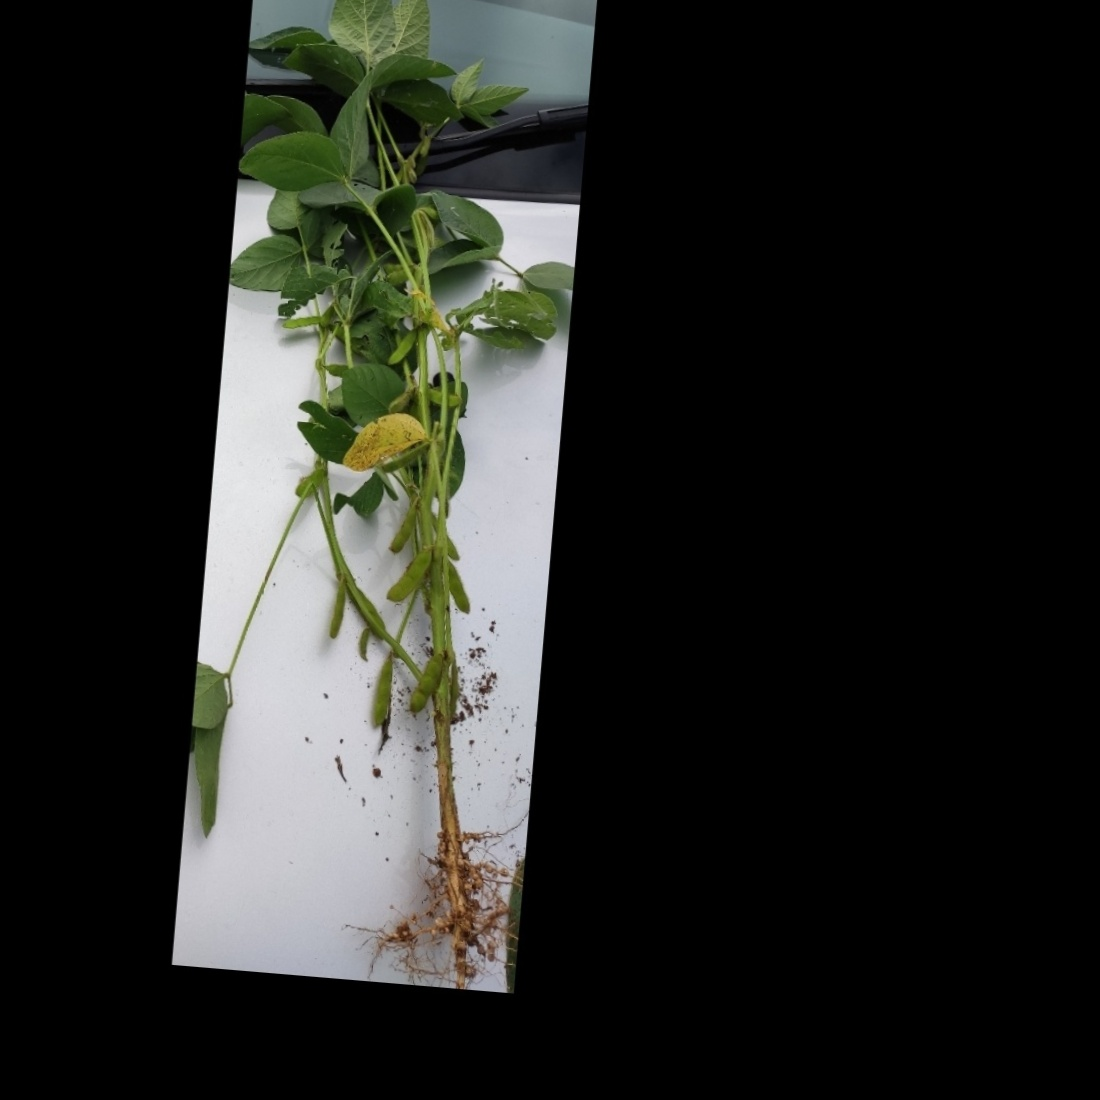pod: (382, 540, 435, 607), (365, 639, 400, 734), (405, 652, 444, 717), (445, 554, 479, 616), (387, 498, 421, 559), (323, 577, 354, 645), (385, 320, 422, 368), (273, 312, 325, 334), (353, 625, 374, 666)
soy: (207, 0, 588, 947)
